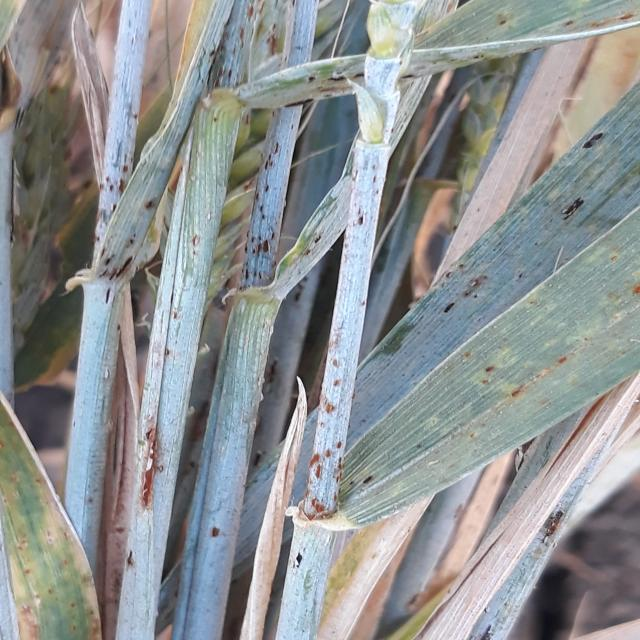black_stem_rust: (2, 0, 639, 640)
